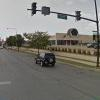Car: (28, 47, 58, 67)
